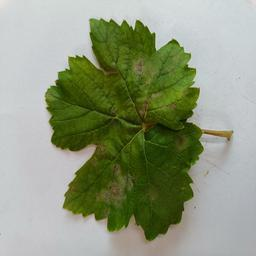Powdery-Mildew: (101, 169, 135, 205)
